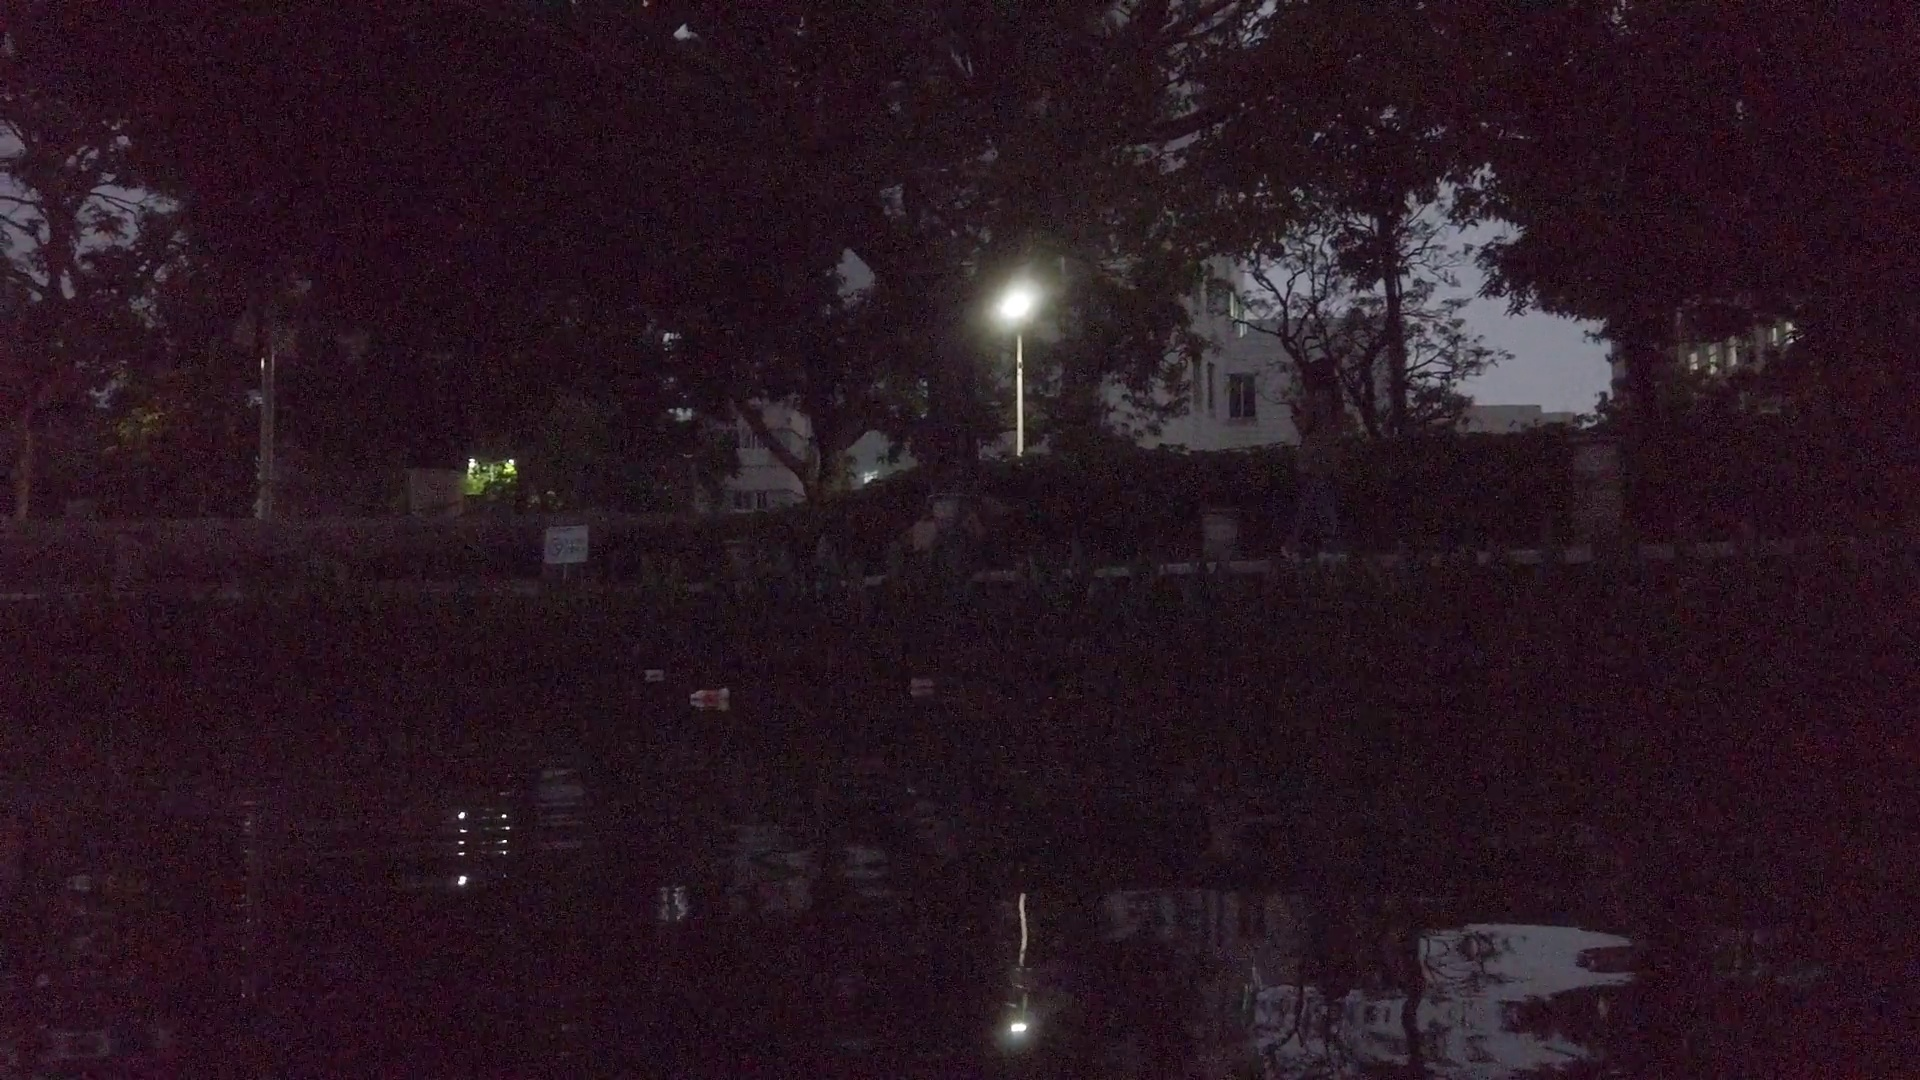bottle: (688, 684, 728, 702), (909, 678, 928, 688)
carton: (647, 669, 659, 675)
